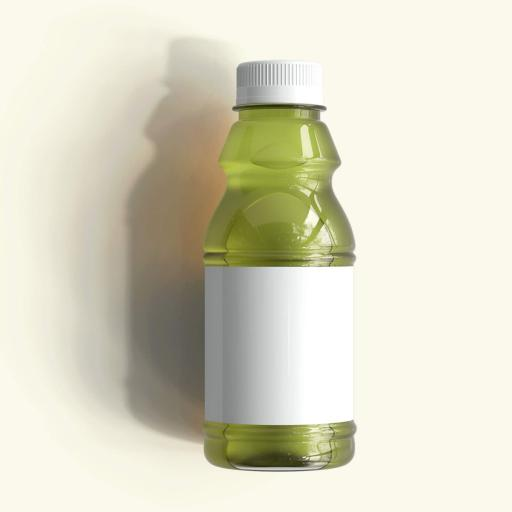bench: (188, 50, 376, 477)
